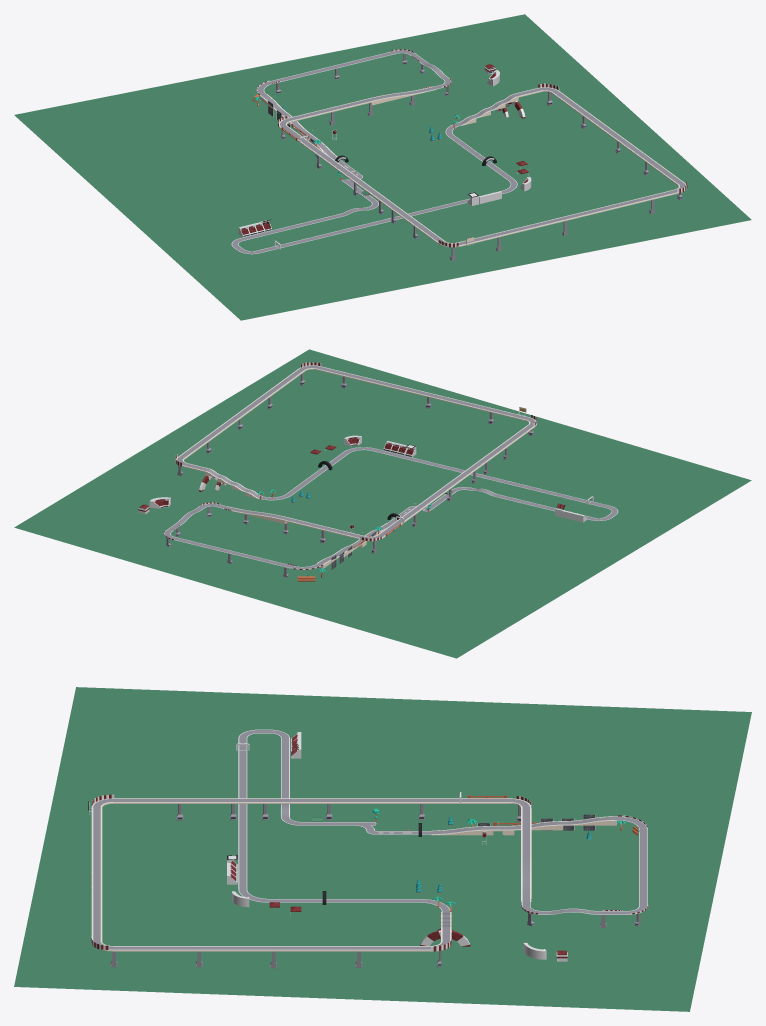
The model's file is race_track1.glb.
The picture shows the model from 3 angles, top to bottom: view 1: azimuth 30°, elevation 25°; view 2: azimuth 150°, elevation 25°; view 3: azimuth 270°, elevation 25°; orthographic projection. The views are drawn at different scales.
Parts seen in each view (by area): view 1: mergedBlocks(Clone); view 2: mergedBlocks(Clone); view 3: mergedBlocks(Clone).
Boxes of the visible parts, <box> form: mergedBlocks(Clone): <box>14,14,751,320</box>; mergedBlocks(Clone): <box>14,349,751,658</box>; mergedBlocks(Clone): <box>14,687,751,1011</box>.
Bounding box in the file's own units: 72.16 × 3.2 × 69.29.
Materials: 22 (3 with a texture image).
